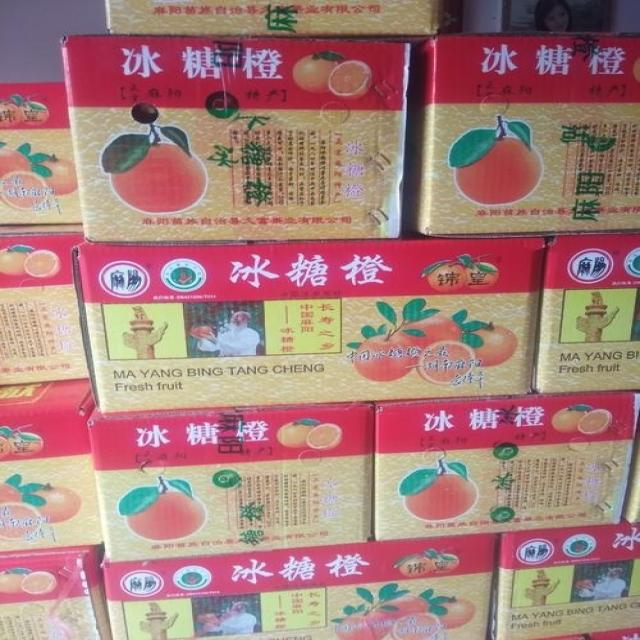box: (72, 236, 546, 416), (62, 36, 409, 242), (401, 32, 639, 236), (88, 402, 376, 563), (101, 533, 495, 639), (373, 390, 639, 541), (0, 379, 106, 552), (488, 524, 639, 639), (533, 230, 639, 392), (0, 223, 91, 387), (0, 81, 84, 225), (106, 0, 438, 35), (0, 544, 113, 639)
